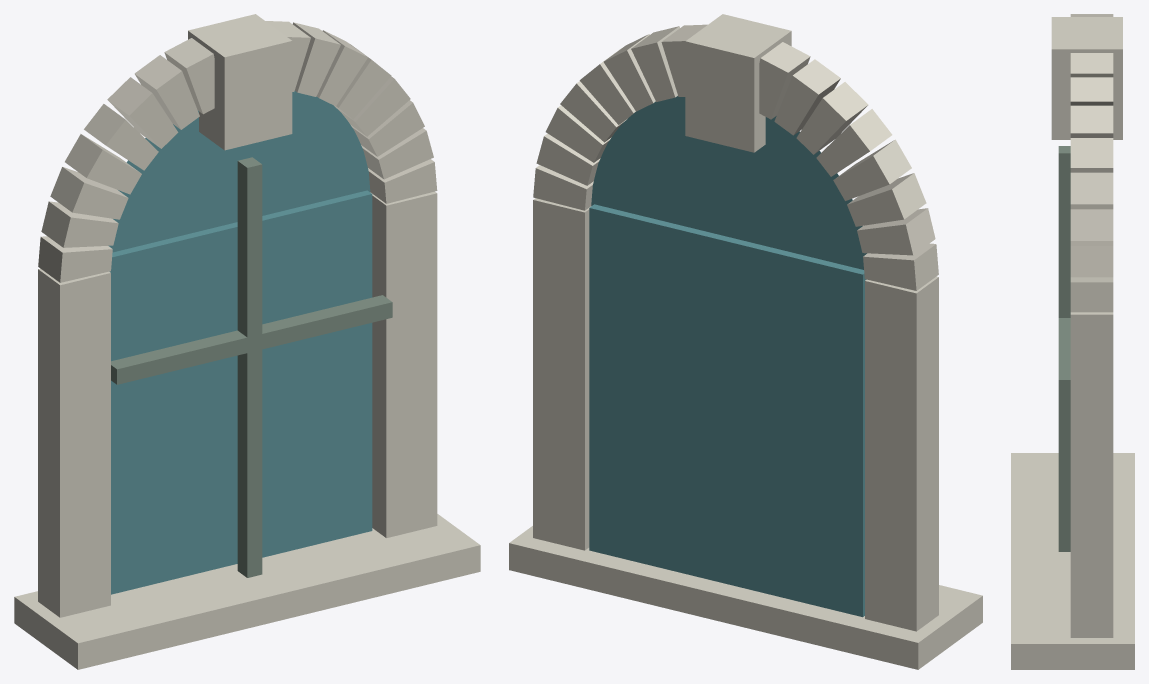
File: arched_window.glb
3 renders of one model, left to right at view 1: azimuth 30°, elevation 25°; view 2: azimuth 150°, elevation 25°; view 3: azimuth 270°, elevation 25°, orthographic. The views are drawn at different scales.
Parts seen in each view (by area): view 1: Window glass, Window sill, Arched window pier L, Arched window pier R, Fanlight, Mullion, Arched window keystone, Cross rail, Arched window voussoir.015, Arched window voussoir.011, Arched window voussoir.016, Arched window voussoir.012 (+12 smaller); view 2: Window glass, Fanlight, Arched window pier L, Arched window pier R, Window sill, Arched window keystone, Arched window voussoir.015, Arched window voussoir.011, Arched window voussoir.016, Arched window voussoir.012, Arched window voussoir.017, Arched window voussoir.014 (+10 smaller); view 3: Window sill, Arched window pier R, Arched window keystone, Mullion, Arched window voussoir.003, Arched window voussoir.001, Arched window voussoir, Arched window voussoir.004, Arched window voussoir.005, Arched window voussoir.002, Arched window voussoir.006, Arched window voussoir.007 (+1 smaller).
Part boxes in pixels (x1,y1,x2,y2): Window glass: [109, 190, 372, 594]; Window sill: [14, 514, 480, 669]; Arched window pier L: [38, 268, 110, 617]; Arched window pier R: [370, 191, 437, 538]; Fanlight: [108, 91, 370, 252]; Mullion: [237, 157, 262, 577]; Arched window keystone: [188, 14, 292, 150]; Cross rail: [111, 295, 392, 384]; Arched window voussoir.015: [50, 167, 128, 219]; Arched window voussoir.011: [134, 55, 199, 129]; Arched window voussoir.016: [41, 201, 118, 247]; Arched window voussoir.012: [107, 77, 178, 148]; Window glass: [589, 204, 866, 617]; Fanlight: [591, 96, 866, 269]; Arched window pier L: [865, 276, 938, 631]; Arched window pier R: [533, 198, 591, 550]; Window sill: [509, 526, 982, 669]; Arched window keystone: [685, 14, 791, 152]; Arched window voussoir.015: [847, 173, 926, 226]; Arched window voussoir.011: [774, 59, 840, 135]; Arched window voussoir.016: [857, 208, 935, 255]; Arched window voussoir.012: [796, 82, 868, 154]; Arched window voussoir.017: [863, 243, 938, 290]; Arched window voussoir.014: [833, 139, 911, 200]; Window sill: [1011, 453, 1134, 669]; Arched window pier R: [1070, 312, 1113, 637]; Arched window keystone: [1051, 17, 1122, 139]; Mullion: [1058, 146, 1070, 551]; Arched window voussoir.003: [1070, 172, 1113, 209]; Arched window voussoir.001: [1070, 241, 1113, 277]; Arched window voussoir: [1070, 277, 1113, 312]; Arched window voussoir.004: [1070, 138, 1113, 172]; Arched window voussoir.005: [1070, 105, 1113, 137]; Arched window voussoir.002: [1070, 209, 1113, 240]; Arched window voussoir.006: [1070, 77, 1113, 105]; Arched window voussoir.007: [1070, 53, 1113, 77].
Bounding box in the file's own units: 1.9 × 2.51 × 0.52.
